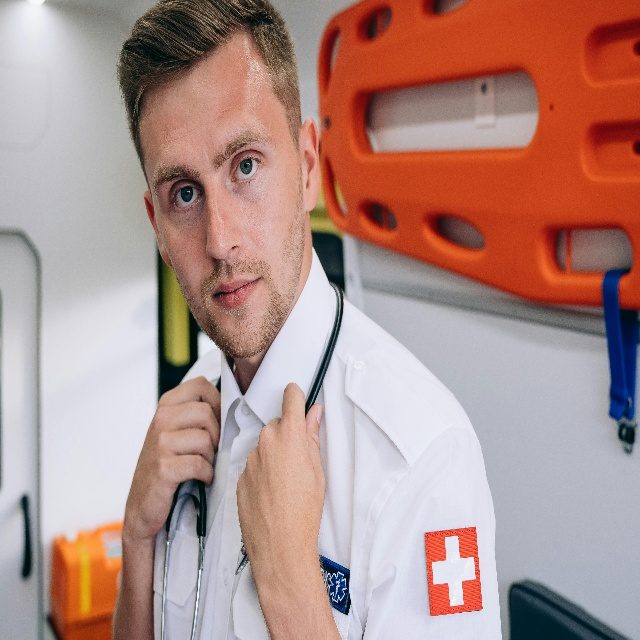Sin_guantes: (235, 382, 333, 583), (121, 373, 227, 539)
